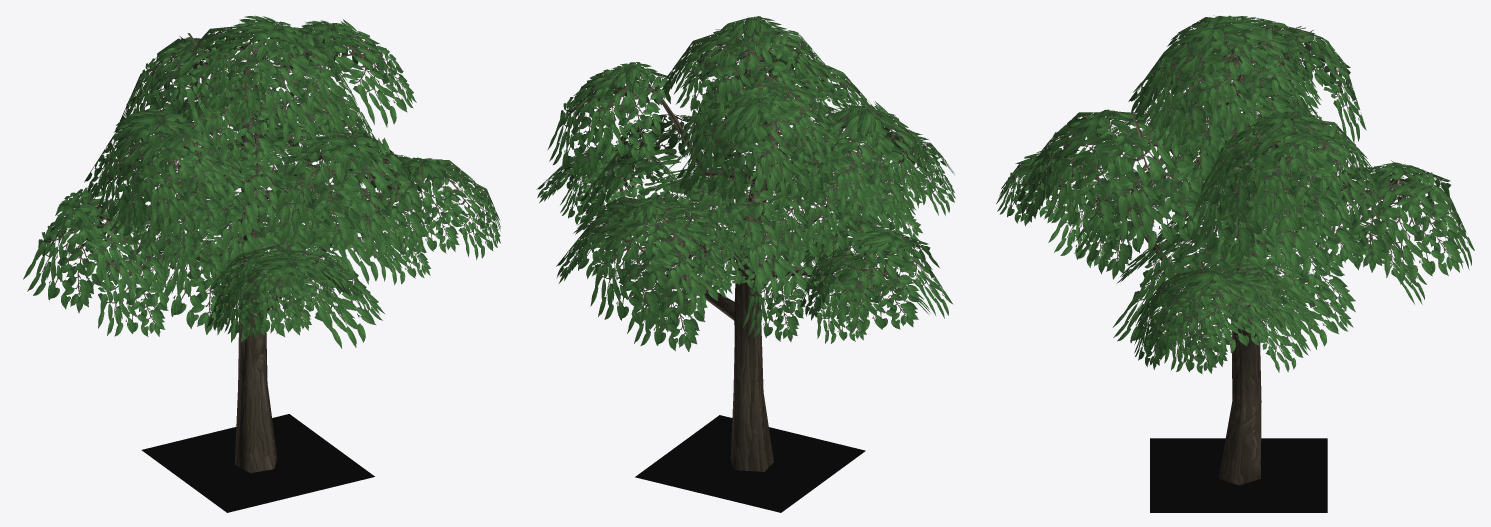
File: jj_tyshu09.FBX
3 views of the same model, side by side, from view 1: azimuth 30°, elevation 25°; view 2: azimuth 150°, elevation 25°; view 3: azimuth 270°, elevation 25° (orthographic). The views are drawn at different scales.
Visible parts, largest first — view 1: jj_tyshu09, shadow; view 2: jj_tyshu09, shadow; view 3: jj_tyshu09, shadow.
Part boxes in pixels (x1,y1,x2,y2): jj_tyshu09: (23,15,500,472); shadow: (141,414,374,512); jj_tyshu09: (536,16,955,471); shadow: (635,415,865,512); jj_tyshu09: (996,15,1474,485); shadow: (1150,438,1327,512).
Bounding box in the file's own units: 552 × 535 × 510.
Materials: 2 (2 with a texture image).
